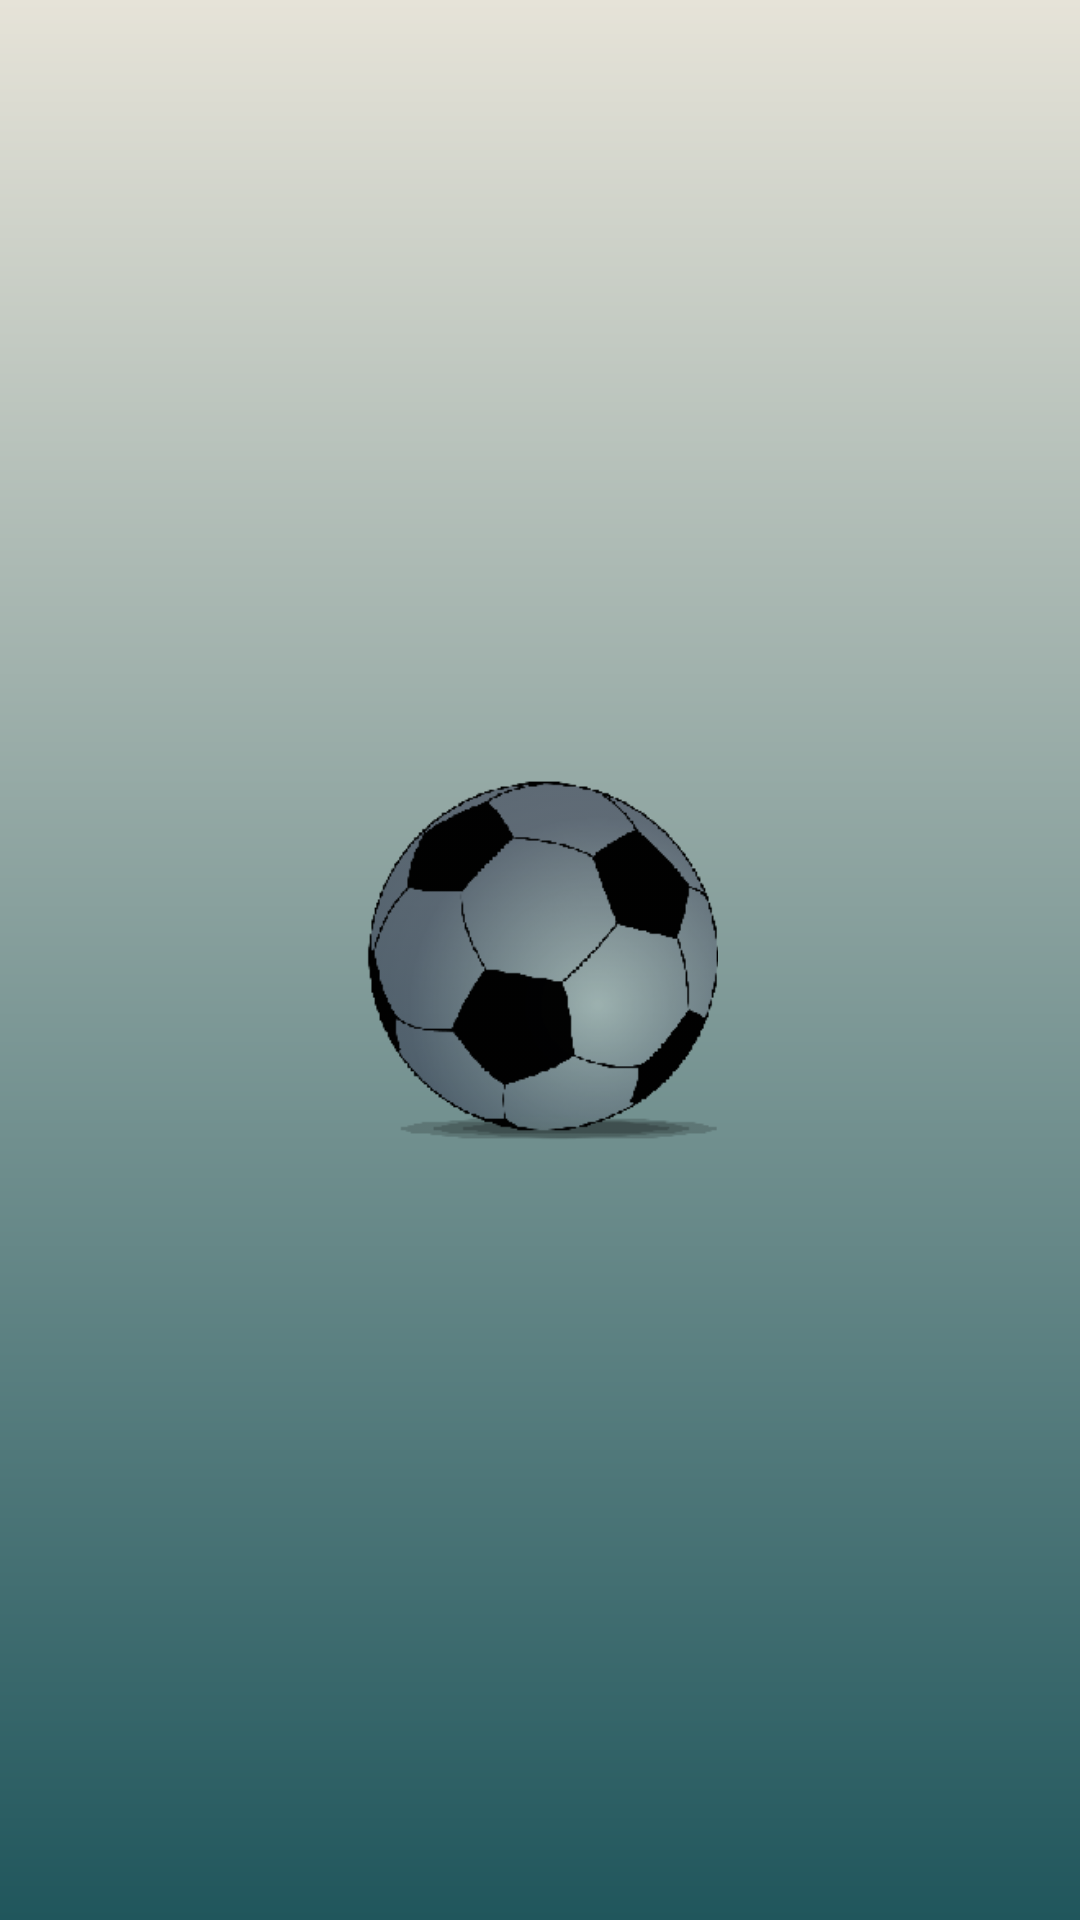

Screen size 1080px×1920px. Icon name, then its center in pixels as (x=x, y=y):
ball: (x=540, y=960)
